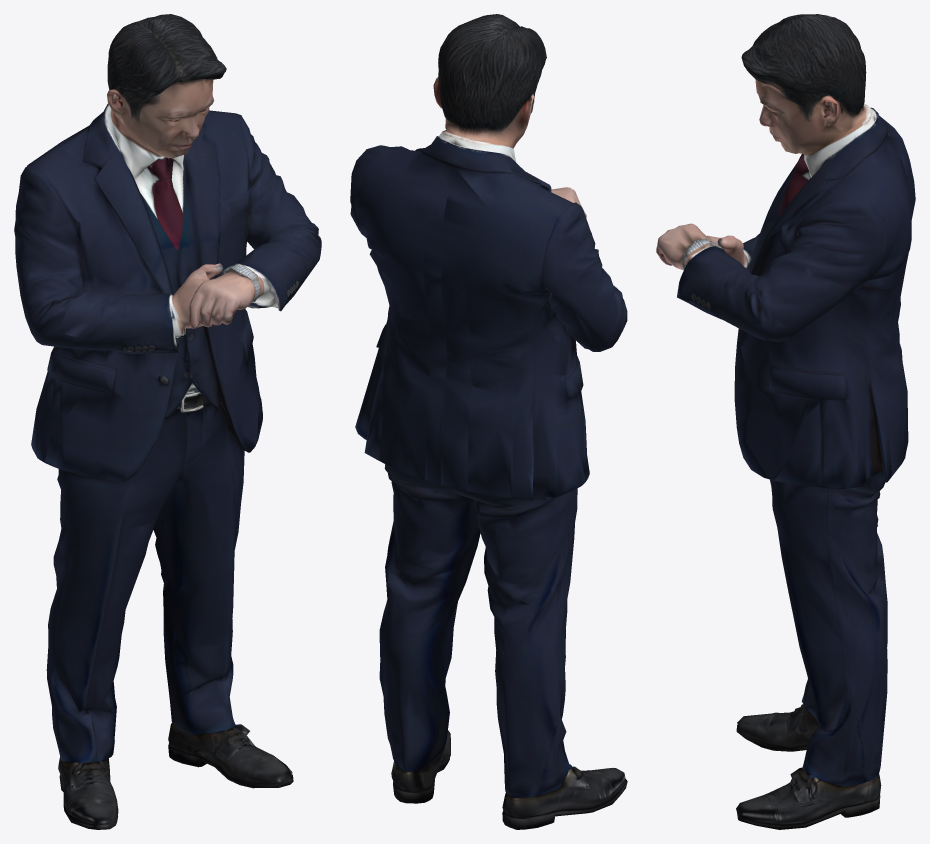
File: JPGV01_M03_L10k.glb
The picture shows the model from 3 angles, left to right: view 1: azimuth 30°, elevation 25°; view 2: azimuth 150°, elevation 25°; view 3: azimuth 270°, elevation 25°; orthographic projection.
Visible parts, largest first — view 1: JPGV01_M03_L10k; view 2: JPGV01_M03_L10k; view 3: JPGV01_M03_L10k.
Boxes of the visible parts, bbox=[...] form: JPGV01_M03_L10k: bbox=[14, 14, 321, 829]; JPGV01_M03_L10k: bbox=[350, 14, 627, 829]; JPGV01_M03_L10k: bbox=[656, 14, 915, 829].
Bounding box in the file's own units: 0.6413 × 1.74 × 0.5368.
1 material, 1 textured.
